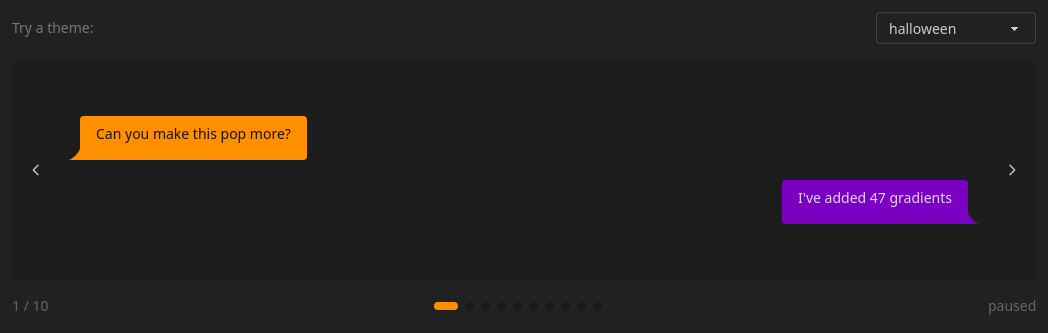
Test: UICarousel › navigates to previous slide when clicking prev button
This screenshot has width=1048, height=333.
// Go to slide 2 first
Click the button named "next slide". click: (1012, 170)
box: top-left (996, 154), bottom-right (1028, 186)
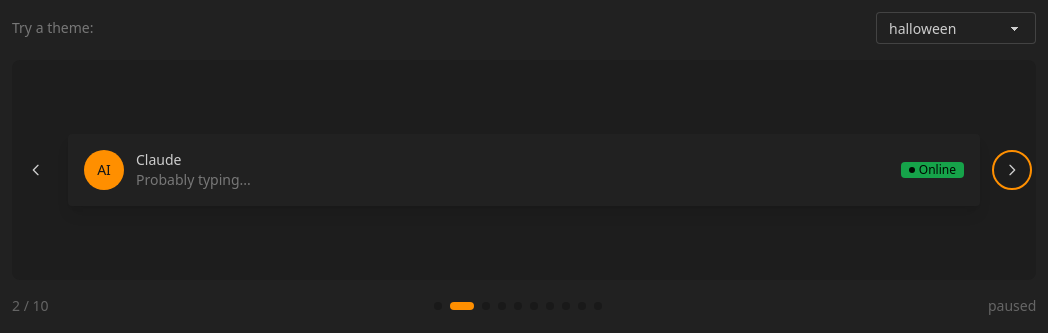
//  Go back
Click the button named "previous slide". click: (36, 170)
box: top-left (20, 154), bottom-right (52, 186)
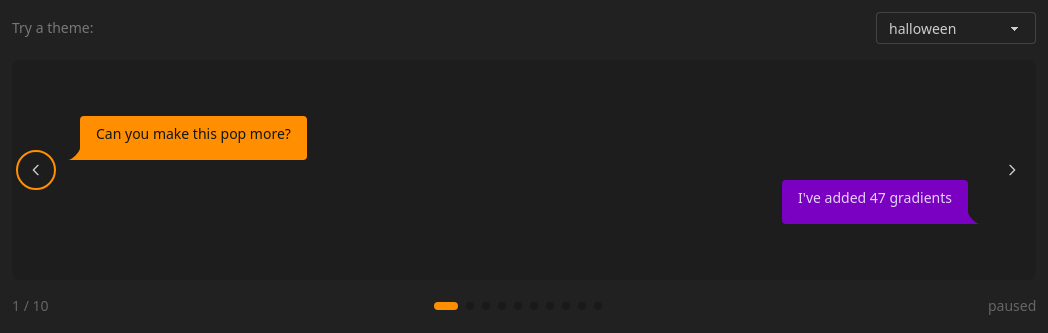
Result: the text "1 / 10" is shown at top-left (12, 296), bottom-right (48, 316)
